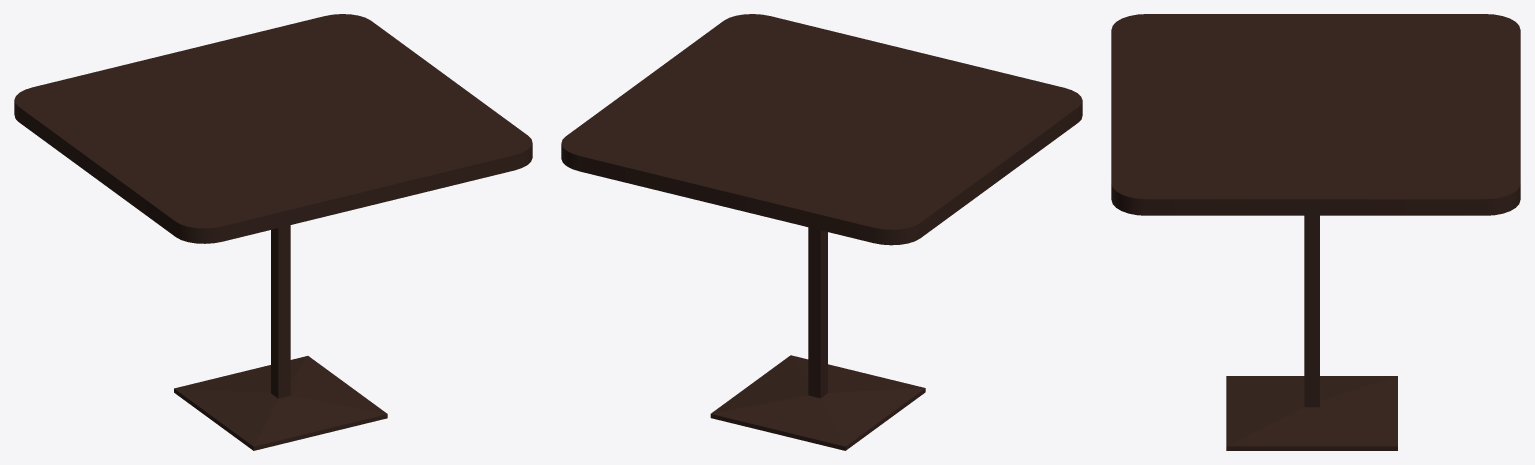
The model's file is plane.141_lev3.glb.
3 views of the same model, side by side, from view 1: azimuth 30°, elevation 25°; view 2: azimuth 150°, elevation 25°; view 3: azimuth 270°, elevation 25° (orthographic). The views are drawn at different scales.
Visible parts, largest first — view 1: plane.141_lev3; view 2: plane.141_lev3; view 3: plane.141_lev3.
Part boxes in pixels (x1,y1,x2,y2): plane.141_lev3: (14,14,532,450); plane.141_lev3: (561,14,1082,450); plane.141_lev3: (1111,14,1520,450).
Size of the model in its own units: 0.7174 by 0.553 by 0.6695.
